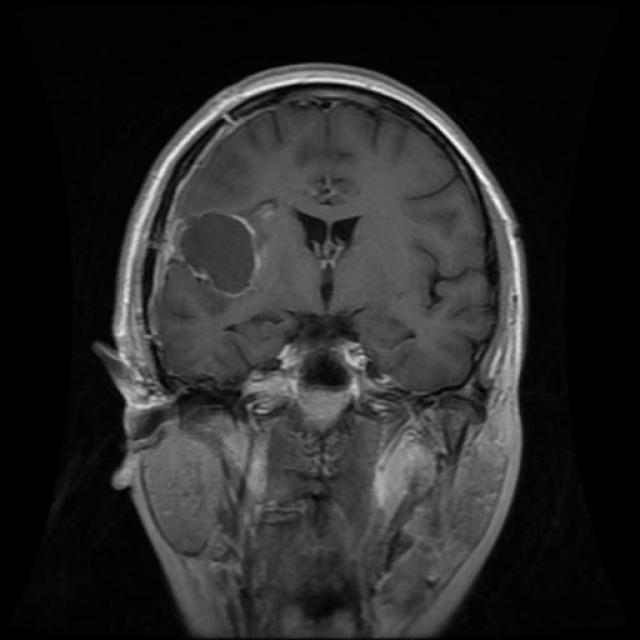glioma: (291, 202, 364, 314), (170, 208, 264, 294)
